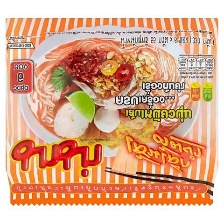snack: (0, 12, 224, 213)
